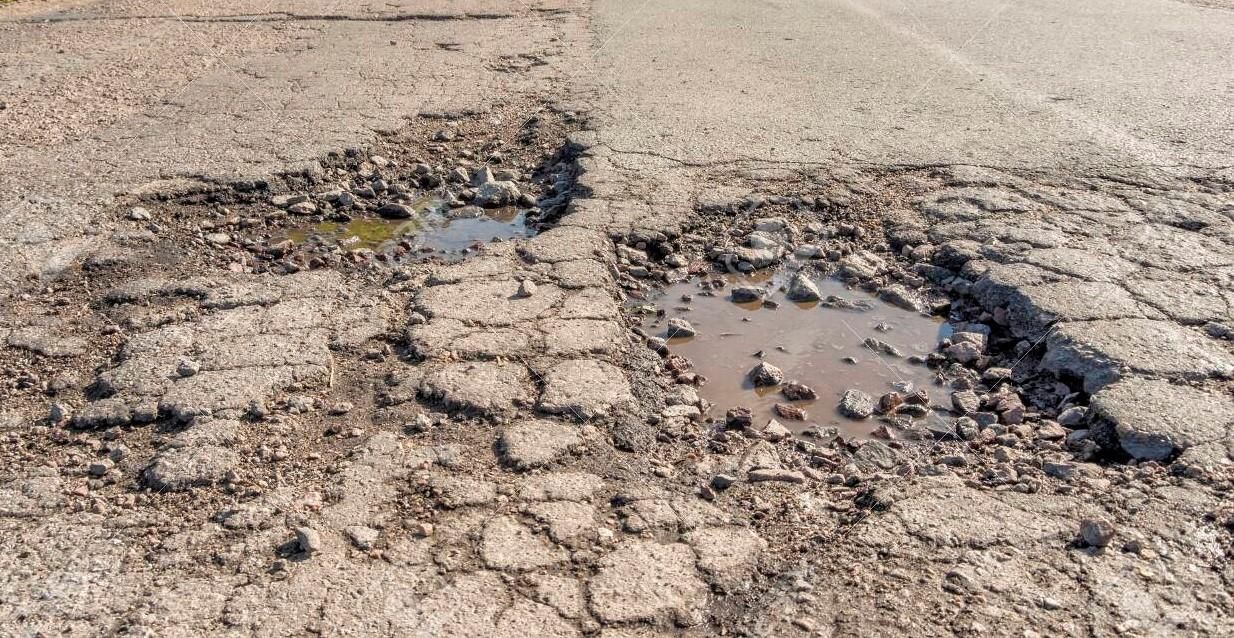pothole: (613, 163, 1196, 509), (146, 92, 593, 276), (237, 310, 515, 516), (12, 275, 193, 536)
